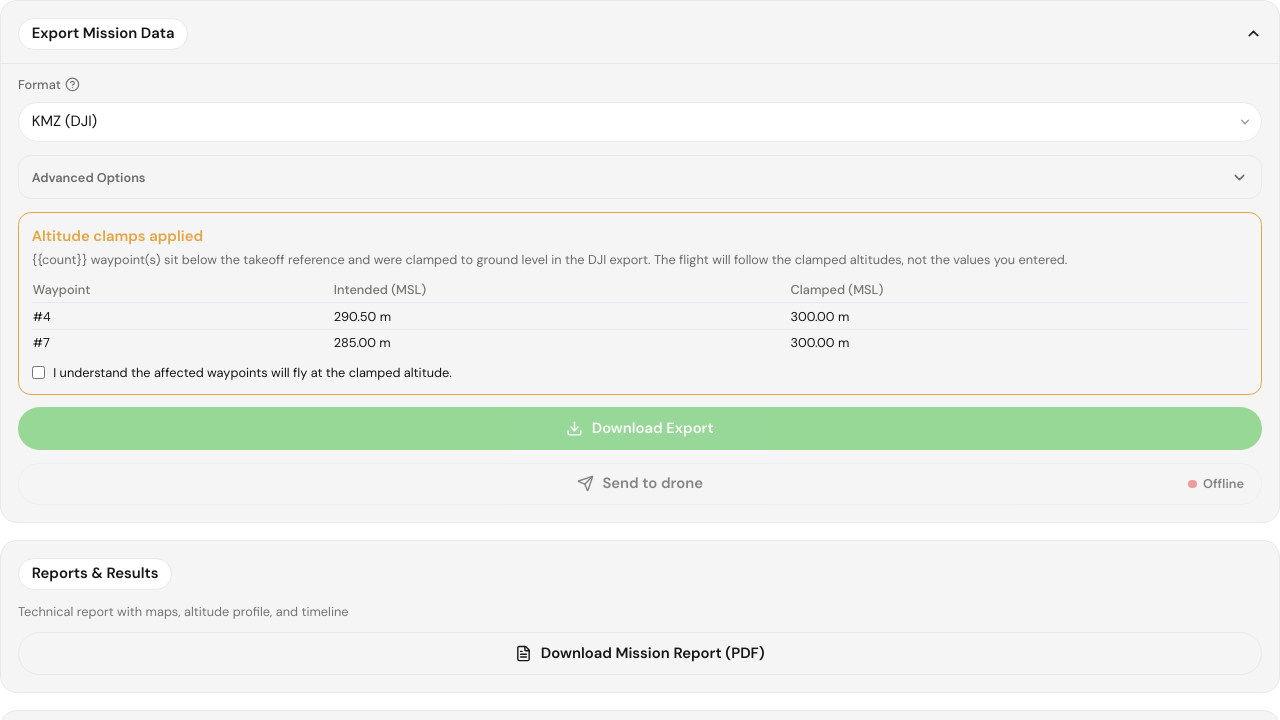
Test: ExportPanel - altitude clamp warning › disables the download button until the ack checkbox is ticked
The image size is (1280, 720).
Check: the button with test id "download-export-btn" is disabled, box [18, 407, 1262, 450]
Click the checkbox with test id "altitude-clamp-ack": (38, 372) [32, 366, 45, 379]
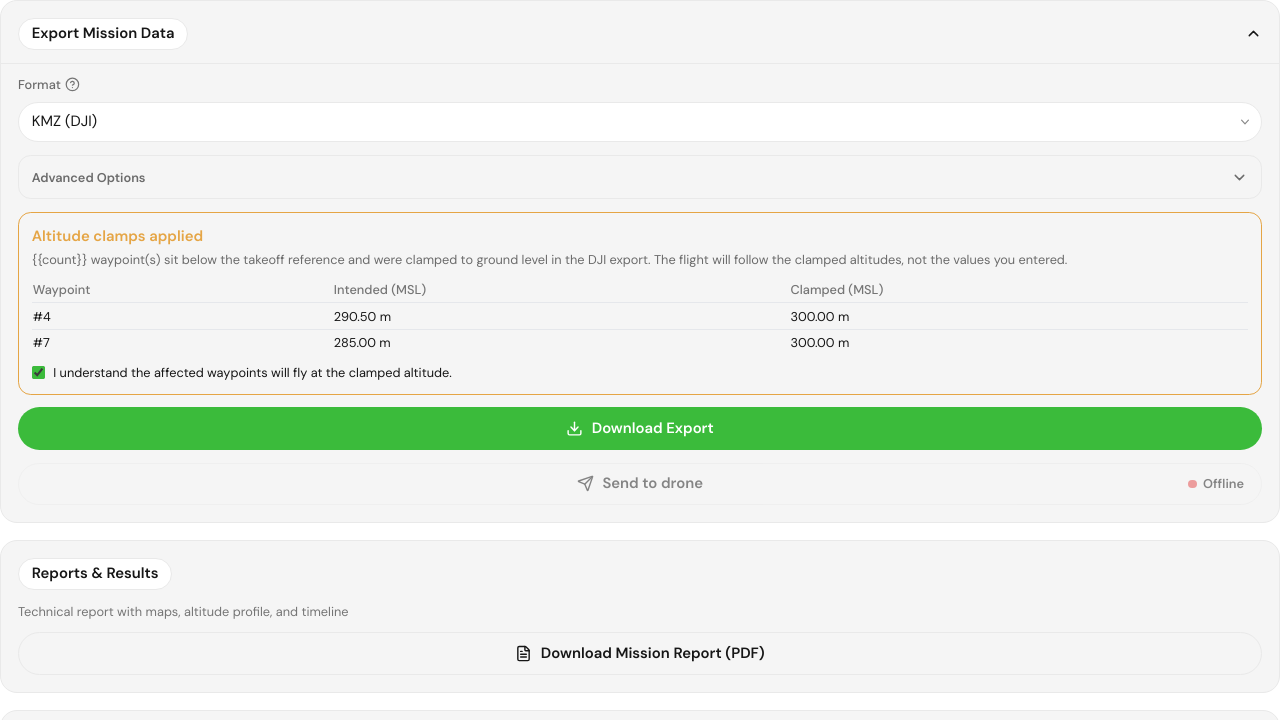
Check: the button with test id "download-export-btn" is enabled, box [18, 407, 1262, 450]
